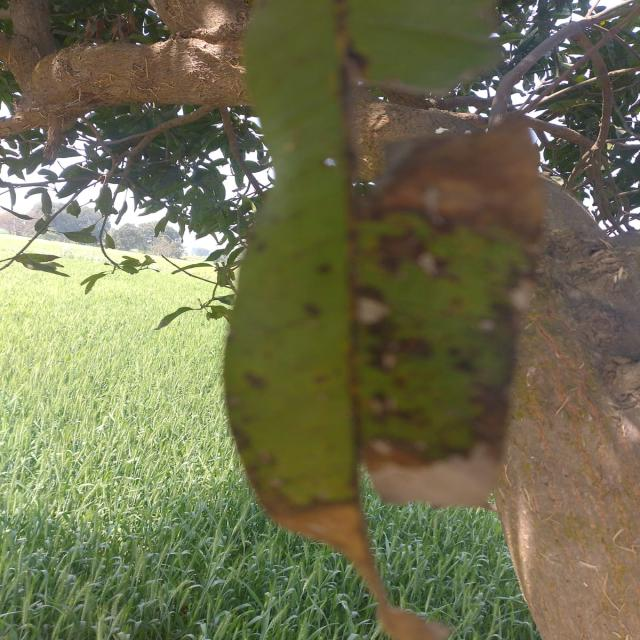Anthracnose: (322, 155, 340, 169)
Powdery Mildew: (376, 472, 501, 507), (355, 296, 388, 326), (420, 255, 438, 283)
black die: (476, 383, 504, 411), (352, 193, 376, 218), (493, 328, 511, 354), (234, 430, 252, 452)
